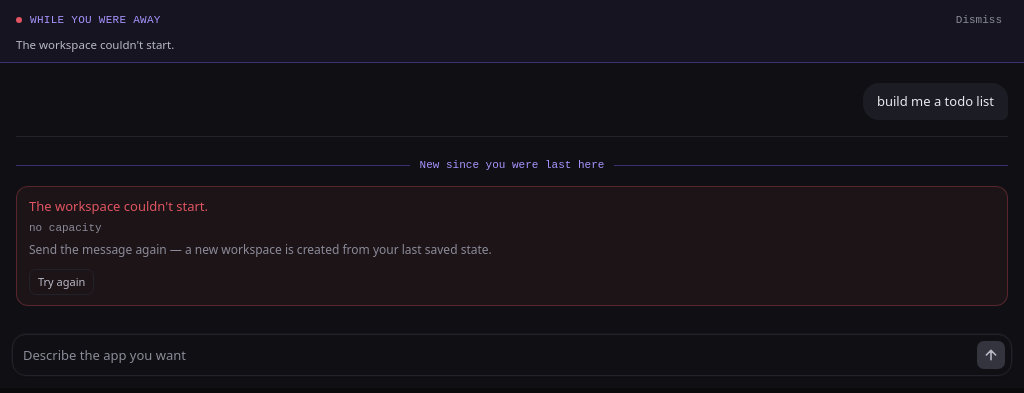
Test: LiveChatPane › says what was decided in an absence, and stops saying it when dismissed
Expected: the element "While you were away Dismiss The workspace couldn't start." is shown, x1=0 y1=0 x2=1023 y2=63
What coordinates should you click on to do the following:
click the button "Dismiss"
I would click on:
 (979, 20)
Its box is x1=950 y1=10 x2=1008 y2=30.
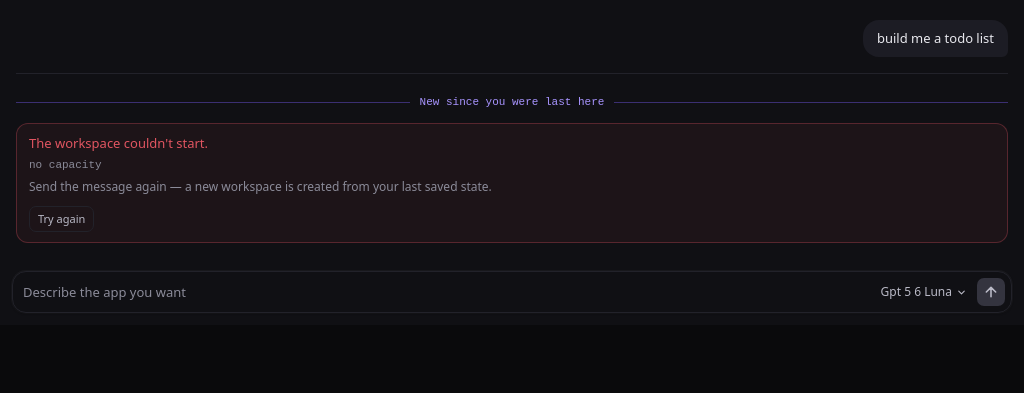
Expected: the text "New since you were last here" is shown, x1=420 y1=94 x2=604 y2=111
Expected: the heading "While you were away" is gone
